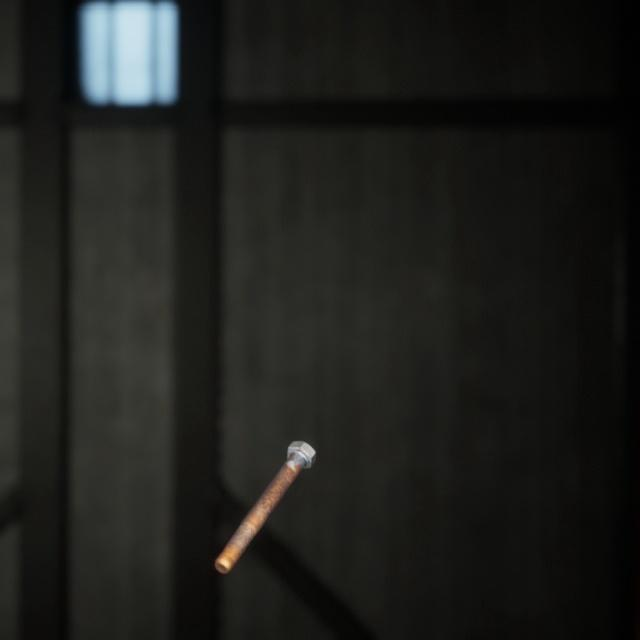bolt: (210, 415, 320, 555)
